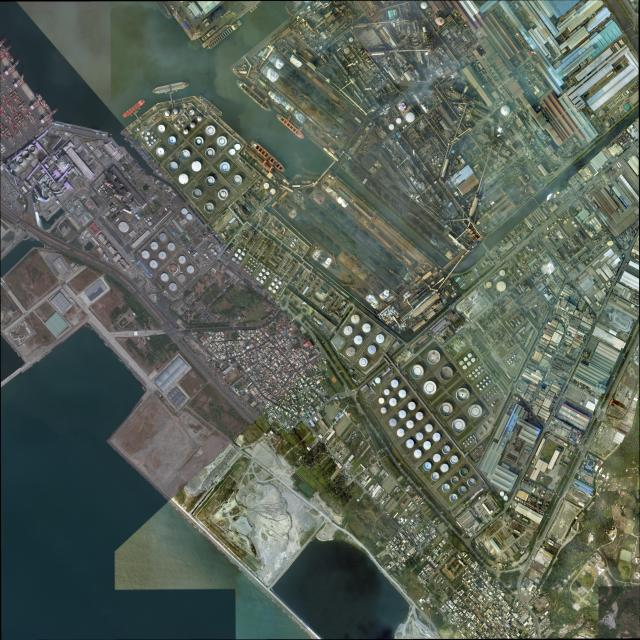large-vehicle: (163, 325, 166, 327), (128, 287, 130, 289), (161, 322, 163, 324)
ship: (234, 78, 273, 113), (249, 139, 286, 174), (206, 20, 242, 50), (276, 112, 305, 140), (197, 94, 223, 118), (152, 81, 189, 95), (122, 98, 146, 119), (35, 91, 53, 115), (154, 1, 174, 21), (202, 26, 218, 41), (124, 137, 129, 143), (129, 143, 134, 149), (120, 131, 124, 137)
storage-tank: (456, 387, 470, 402), (452, 418, 466, 433), (423, 381, 437, 395), (440, 402, 453, 417), (411, 364, 424, 379), (440, 367, 453, 381), (427, 350, 440, 364), (469, 405, 482, 418), (206, 125, 216, 136), (206, 176, 216, 187), (220, 162, 230, 173), (179, 174, 189, 185), (192, 161, 202, 172), (217, 136, 227, 146), (219, 189, 229, 199), (194, 137, 204, 147), (168, 162, 178, 172), (181, 150, 191, 160), (496, 282, 506, 292), (500, 105, 510, 115), (405, 113, 415, 123), (205, 202, 214, 213), (156, 146, 165, 157), (206, 148, 215, 158), (192, 189, 202, 198), (233, 175, 242, 185), (362, 323, 371, 333), (119, 222, 128, 232), (359, 358, 368, 367), (351, 314, 359, 324), (368, 345, 376, 354), (347, 347, 355, 356), (344, 326, 352, 335), (354, 336, 362, 345), (376, 334, 384, 343), (169, 264, 177, 273), (168, 136, 176, 145), (406, 420, 414, 429), (406, 439, 414, 448), (414, 449, 422, 458), (424, 462, 432, 471), (440, 464, 449, 472), (468, 478, 476, 487), (389, 398, 397, 406), (391, 380, 399, 388), (389, 419, 397, 427), (397, 429, 405, 437), (159, 233, 167, 241), (157, 125, 165, 133), (169, 283, 177, 291), (408, 402, 416, 410), (425, 424, 433, 432), (433, 433, 441, 441), (433, 454, 441, 462), (460, 468, 468, 476), (451, 476, 459, 484), (459, 486, 467, 494), (442, 484, 450, 492), (450, 494, 458, 502), (399, 410, 406, 419), (142, 250, 149, 259), (28, 144, 35, 153), (416, 432, 423, 441), (437, 17, 444, 26), (443, 445, 450, 454), (451, 455, 458, 464), (432, 472, 439, 481), (399, 390, 406, 398), (161, 273, 168, 281), (150, 260, 157, 268), (159, 251, 166, 259), (168, 242, 175, 250), (151, 242, 158, 250), (179, 256, 186, 264), (178, 274, 185, 282), (416, 412, 423, 420), (399, 103, 406, 111), (424, 441, 431, 449), (10, 163, 17, 170), (16, 157, 23, 164), (22, 151, 29, 158), (187, 266, 194, 273), (421, 1, 427, 9), (624, 104, 630, 111), (183, 129, 189, 135), (190, 122, 196, 128), (172, 109, 178, 115), (270, 189, 276, 195), (230, 149, 236, 155), (235, 144, 241, 150), (384, 389, 390, 395), (396, 118, 402, 124), (381, 408, 387, 414), (165, 111, 171, 117), (486, 282, 492, 288), (190, 109, 195, 115), (264, 183, 269, 189), (182, 208, 187, 214), (186, 214, 192, 219), (375, 378, 381, 383), (389, 124, 394, 130), (349, 37, 354, 43), (379, 398, 384, 404), (344, 48, 350, 53), (500, 270, 505, 276), (609, 240, 614, 246), (197, 116, 202, 121), (225, 282, 229, 287), (468, 353, 472, 358), (467, 361, 471, 366), (500, 491, 504, 496), (260, 280, 264, 284), (262, 268, 266, 272), (274, 278, 278, 282), (278, 281, 282, 285), (148, 221, 152, 225), (221, 286, 225, 290), (222, 278, 226, 282), (158, 172, 162, 176), (531, 267, 535, 271), (460, 361, 464, 365), (464, 357, 468, 361), (471, 358, 475, 362), (463, 365, 467, 369), (504, 496, 508, 500), (184, 104, 187, 108), (259, 273, 263, 276), (257, 277, 260, 281), (263, 276, 267, 279), (266, 271, 269, 275), (272, 282, 275, 286), (273, 290, 276, 294), (275, 286, 279, 289), (232, 257, 235, 261), (235, 253, 238, 257), (238, 249, 241, 253), (242, 252, 245, 256), (239, 256, 242, 260), (236, 260, 239, 264), (145, 136, 148, 140), (603, 243, 606, 247), (545, 235, 548, 239), (178, 120, 181, 123), (181, 123, 184, 126), (178, 127, 181, 130), (331, 176, 334, 179), (292, 242, 295, 245), (290, 244, 293, 247), (384, 117, 387, 120), (269, 287, 272, 290), (53, 155, 56, 158), (75, 149, 78, 152), (135, 214, 138, 217), (137, 216, 140, 219), (211, 249, 214, 252), (203, 264, 206, 267), (213, 252, 216, 255), (156, 169, 159, 172), (137, 128, 140, 131), (147, 132, 150, 135), (151, 141, 154, 144), (479, 352, 482, 355), (517, 270, 520, 273), (520, 273, 523, 276), (518, 252, 521, 255), (526, 246, 529, 249), (483, 379, 486, 382), (472, 377, 475, 380), (475, 369, 478, 372), (478, 366, 481, 369), (477, 372, 480, 375), (477, 384, 480, 387), (486, 376, 489, 379), (486, 382, 489, 385), (479, 387, 482, 390), (353, 62, 356, 65), (590, 258, 593, 261), (540, 234, 543, 237), (633, 295, 636, 298), (624, 131, 627, 134), (472, 371, 475, 374), (469, 374, 472, 377), (351, 60, 354, 63), (437, 158, 440, 161), (541, 494, 544, 497), (484, 395, 487, 398), (543, 490, 545, 494), (631, 139, 633, 142), (253, 260, 255, 263), (329, 175, 331, 178), (294, 239, 296, 242), (251, 263, 254, 265), (354, 58, 356, 61), (254, 265, 256, 268), (249, 273, 252, 275), (247, 270, 249, 273), (244, 268, 246, 271), (55, 158, 58, 160), (113, 201, 115, 204), (193, 254, 195, 257), (195, 252, 197, 255), (201, 261, 203, 264), (204, 253, 206, 256), (246, 265, 248, 268), (151, 136, 153, 139), (147, 141, 149, 144), (154, 139, 156, 142), (167, 189, 169, 192), (635, 300, 637, 303), (545, 275, 548, 277), (477, 349, 479, 352), (475, 346, 477, 349), (475, 374, 477, 377), (481, 369, 483, 372), (480, 382, 483, 384), (489, 380, 491, 383), (483, 385, 485, 388), (528, 248, 530, 251), (501, 240, 504, 242), (594, 240, 597, 242), (571, 266, 573, 269), (573, 264, 576, 266), (587, 261, 589, 264), (605, 234, 608, 236), (636, 297, 639, 299), (632, 298, 634, 301), (575, 224, 577, 227), (572, 221, 574, 224), (626, 133, 628, 136), (564, 220, 566, 223), (566, 219, 569, 221), (496, 390, 499, 392), (494, 392, 496, 395), (437, 168, 439, 171), (434, 170, 436, 173), (439, 164, 441, 167), (457, 92, 459, 95), (459, 93, 461, 96), (435, 160, 437, 163), (433, 162, 435, 165), (491, 404, 494, 406), (513, 395, 515, 398), (516, 397, 518, 400), (515, 497, 517, 500), (487, 398, 489, 401), (487, 393, 489, 396), (489, 391, 491, 394), (494, 387, 496, 390), (492, 394, 494, 397), (517, 499, 520, 501), (175, 124, 177, 126), (249, 261, 251, 263), (229, 250, 231, 252), (250, 258, 252, 260), (405, 125, 407, 127), (403, 127, 405, 129), (256, 263, 258, 265), (251, 270, 253, 272), (226, 250, 228, 252), (144, 218, 146, 220), (145, 220, 147, 222), (110, 196, 112, 198), (116, 204, 118, 206), (206, 256, 208, 258), (249, 268, 251, 270), (112, 208, 114, 210), (142, 136, 144, 138), (149, 144, 151, 146), (356, 61, 358, 63), (531, 249, 533, 251), (528, 269, 530, 271), (531, 278, 533, 280), (532, 280, 534, 282), (533, 275, 535, 277), (534, 276, 536, 278), (545, 288, 547, 290), (514, 355, 516, 357), (507, 361, 509, 363), (509, 359, 511, 361), (597, 239, 599, 241), (598, 241, 600, 243), (569, 435, 571, 437), (570, 432, 572, 434), (571, 431, 573, 433), (629, 136, 631, 138), (629, 140, 631, 142), (547, 228, 549, 230), (558, 218, 560, 220), (438, 97, 440, 99), (439, 99, 441, 101), (453, 90, 455, 92), (455, 91, 457, 93), (435, 163, 437, 165), (437, 161, 439, 163), (520, 500, 522, 502), (522, 501, 524, 503), (493, 401, 495, 403), (489, 397, 491, 399), (463, 442, 465, 444), (468, 438, 470, 440), (470, 436, 472, 438), (472, 439, 474, 441), (470, 441, 472, 443), (467, 443, 469, 445), (465, 445, 467, 447), (492, 389, 493, 392), (294, 244, 295, 246), (228, 251, 229, 253), (231, 249, 233, 250), (233, 247, 234, 249), (228, 249, 229, 251), (111, 209, 112, 211), (538, 271, 540, 272), (543, 290, 544, 292), (544, 289, 545, 291), (512, 357, 514, 358), (509, 362, 510, 364), (511, 361, 512, 363), (549, 226, 550, 228), (576, 282, 578, 283), (621, 134, 623, 135), (620, 135, 622, 136), (619, 136, 621, 137), (623, 136, 624, 138), (625, 139, 626, 141), (628, 138, 629, 140), (440, 101, 442, 102), (437, 95, 438, 97), (519, 399, 520, 401), (466, 440, 467, 442), (293, 246, 294, 247), (293, 247, 294, 248), (570, 434, 571, 435), (624, 138, 625, 139), (618, 137, 619, 138), (630, 139, 631, 140)
